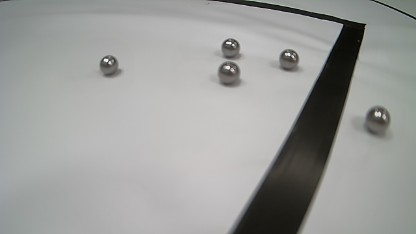ironball: (365, 105, 390, 134), (218, 61, 240, 84), (279, 49, 299, 70), (99, 55, 118, 75), (221, 38, 240, 57)
